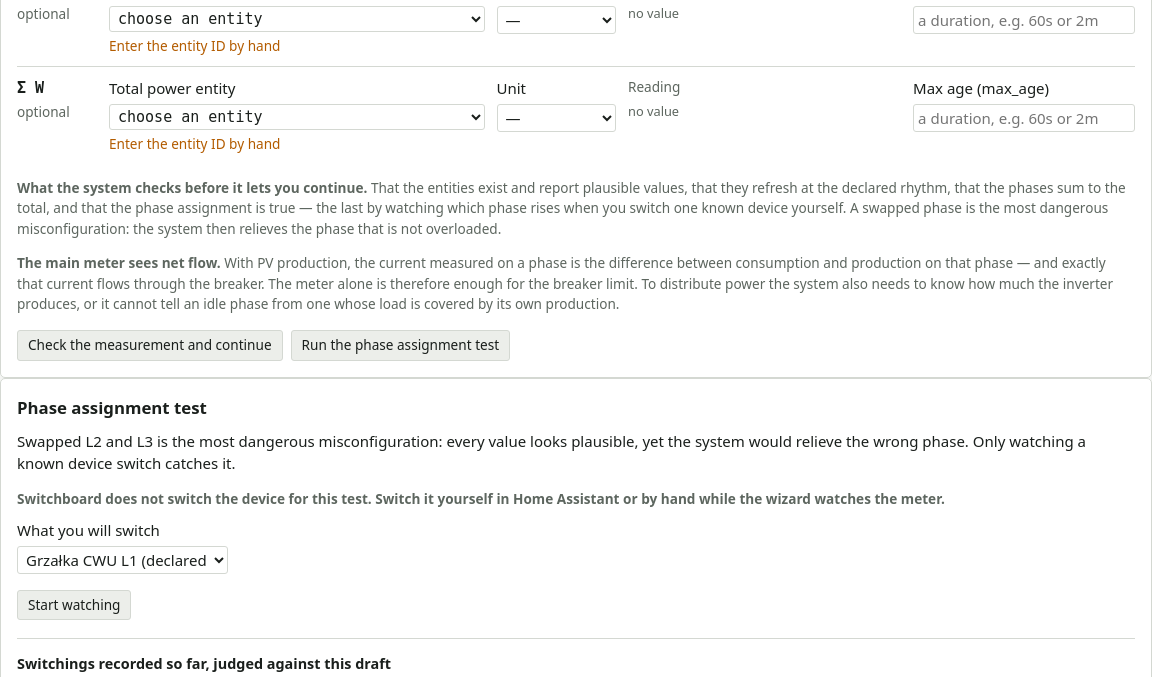
Test: check and continue › says so when the add-on does not answer, and stays
(page scrolled)
What coordinates should you click on to do the following:
click the button "Check the measurement and continue"
I would click on:
 (150, 346)
Its box is [17,330,283,361].
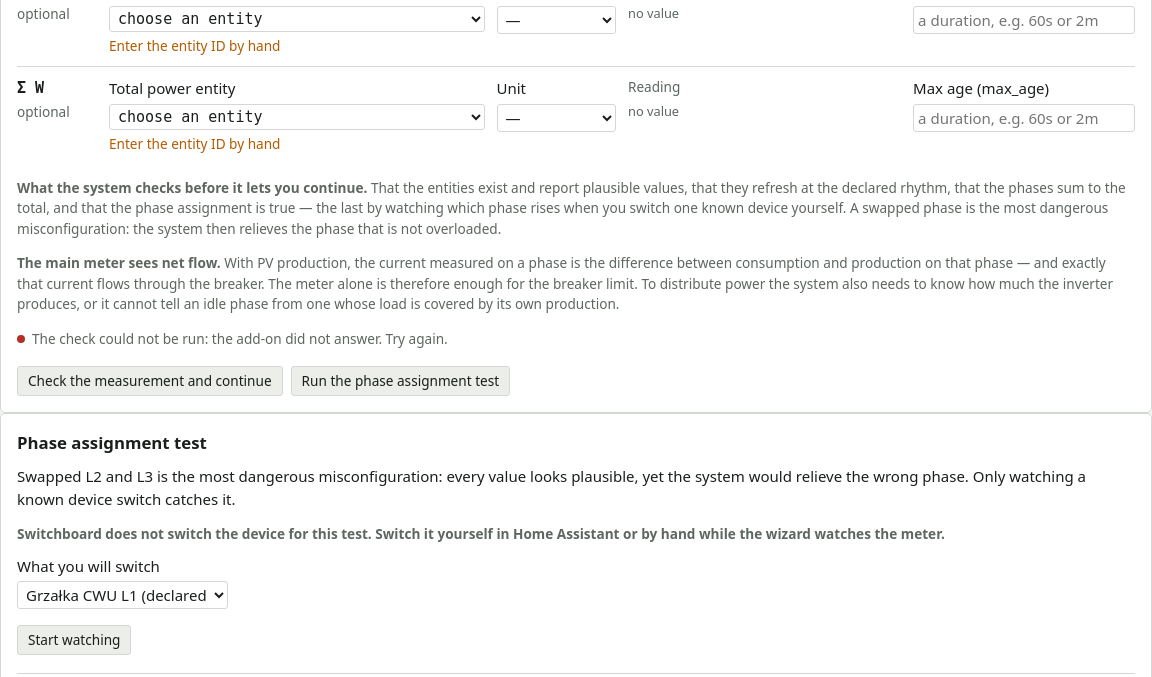
Expected: the text "The check could not be run: the add-on did not answer." is shown, [32,329,448,348]
